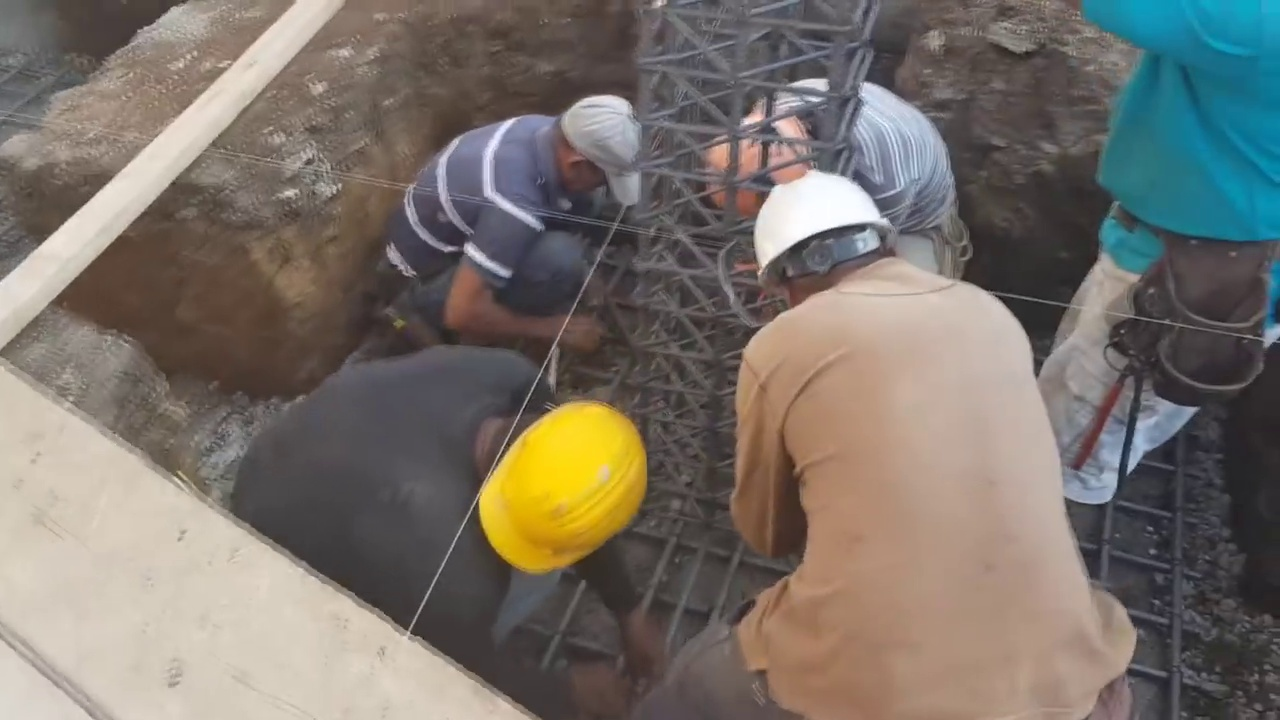helmet: (478, 399, 645, 587), (752, 167, 892, 280), (704, 99, 812, 204)
helmet-off: (539, 97, 643, 204)
helmet-on: (457, 386, 645, 593), (750, 166, 896, 310)
person: (668, 168, 1134, 712), (214, 339, 649, 714), (1048, 3, 1280, 576), (380, 87, 651, 350), (706, 71, 961, 256)
